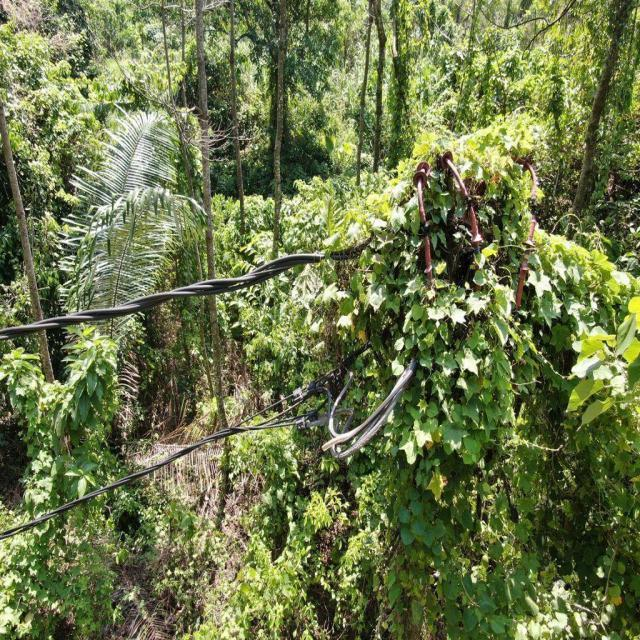critical vegetation: (287, 116, 640, 566)
